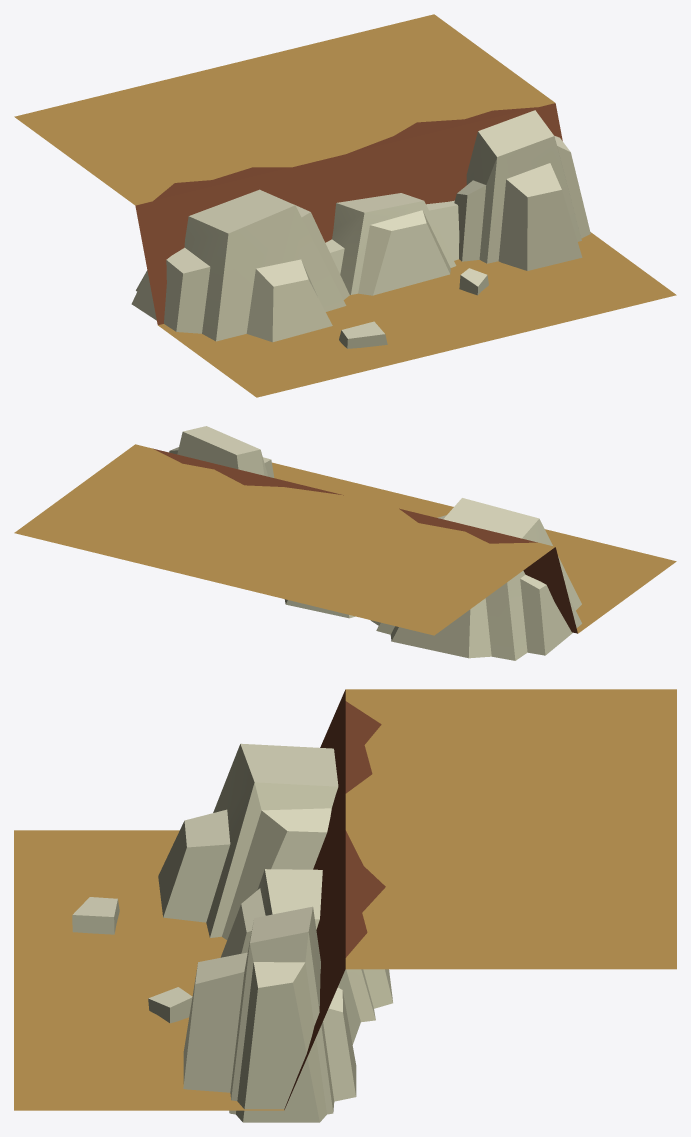
File: SA_Sand_Hill.fbx
3 renders of one model, top to bottom at view 1: azimuth 30°, elevation 25°; view 2: azimuth 150°, elevation 25°; view 3: azimuth 270°, elevation 25°, orthographic. The views are drawn at different scales.
Visible parts, largest first — view 1: SA_Sand_Hill; view 2: SA_Sand_Hill; view 3: SA_Sand_Hill.
Boxes of the visible parts, x1,y1,x2,y2 form: SA_Sand_Hill: (14,14,676,397); SA_Sand_Hill: (14,426,676,660); SA_Sand_Hill: (14,689,676,1122).
Size of the model in its own units: 15 by 4.2 by 15.
